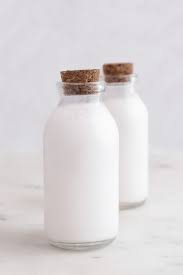milk: (36, 58, 124, 246), (102, 48, 160, 216)
